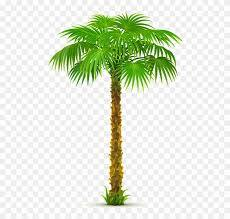plant: (56, 16, 182, 205)
